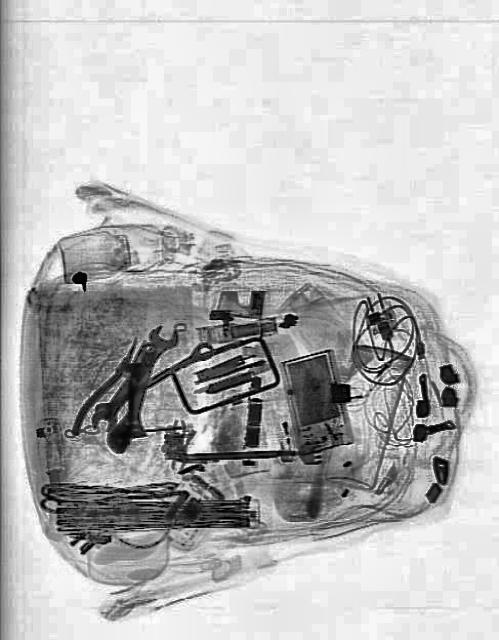Pliers: (68, 329, 160, 458)
Wrench: (87, 332, 216, 438), (118, 318, 180, 442)
